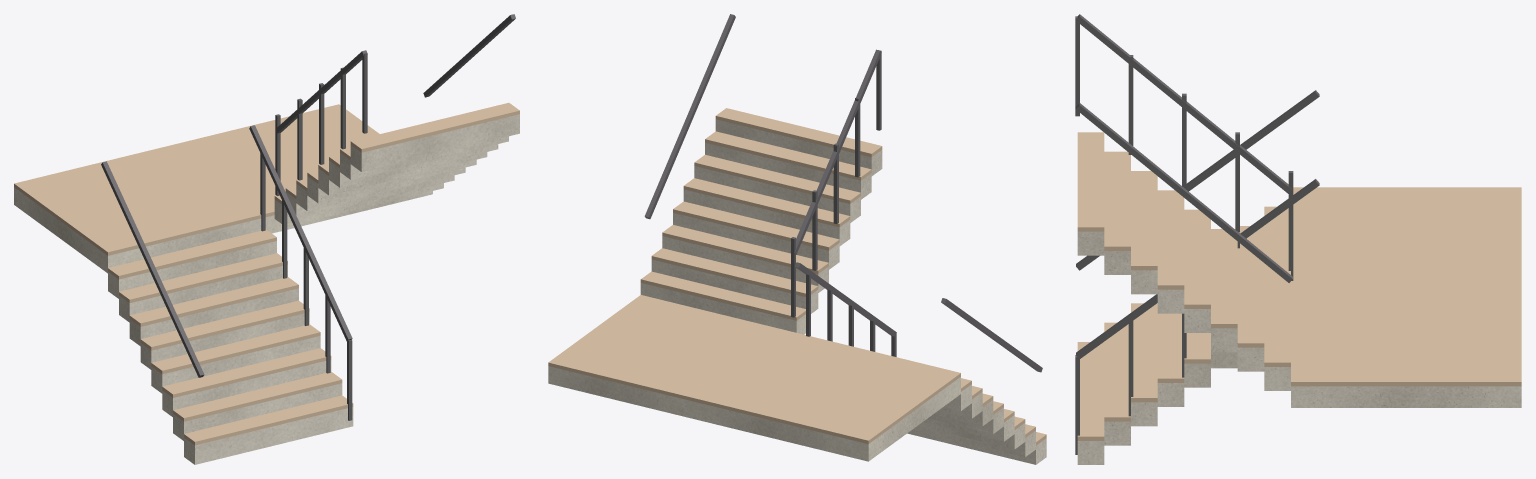
The model's file is stairs_u_3m2_192_192.glb.
The picture shows the model from 3 angles, left to right: view 1: azimuth 30°, elevation 25°; view 2: azimuth 150°, elevation 25°; view 3: azimuth 270°, elevation 25°; orthographic projection. The views are drawn at different scales.
Visible parts, largest first — view 1: stairs_u_3m2_192_192_floor, stairs_u_3m2_192_192_plaster, stairs_u_3m2_192_192_iron; view 2: stairs_u_3m2_192_192_floor, stairs_u_3m2_192_192_plaster, stairs_u_3m2_192_192_iron; view 3: stairs_u_3m2_192_192_floor, stairs_u_3m2_192_192_plaster, stairs_u_3m2_192_192_iron.
Part boxes in pixels (x1,y1,x2,y2): stairs_u_3m2_192_192_floor: [14, 102, 519, 445]; stairs_u_3m2_192_192_plaster: [14, 114, 519, 464]; stairs_u_3m2_192_192_iron: [101, 14, 515, 420]; stairs_u_3m2_192_192_floor: [548, 108, 1046, 445]; stairs_u_3m2_192_192_plaster: [548, 119, 1046, 464]; stairs_u_3m2_192_192_iron: [644, 14, 1042, 372]; stairs_u_3m2_192_192_floor: [1077, 132, 1521, 440]; stairs_u_3m2_192_192_plaster: [1077, 231, 1521, 464]; stairs_u_3m2_192_192_iron: [1075, 14, 1319, 454].
Bounding box in the file's own units: 3.84 × 4.2 × 3.72.
Materials: 3 (1 with a texture image).
